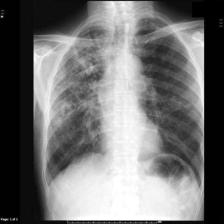tuberculosis: (38, 15, 206, 190)
